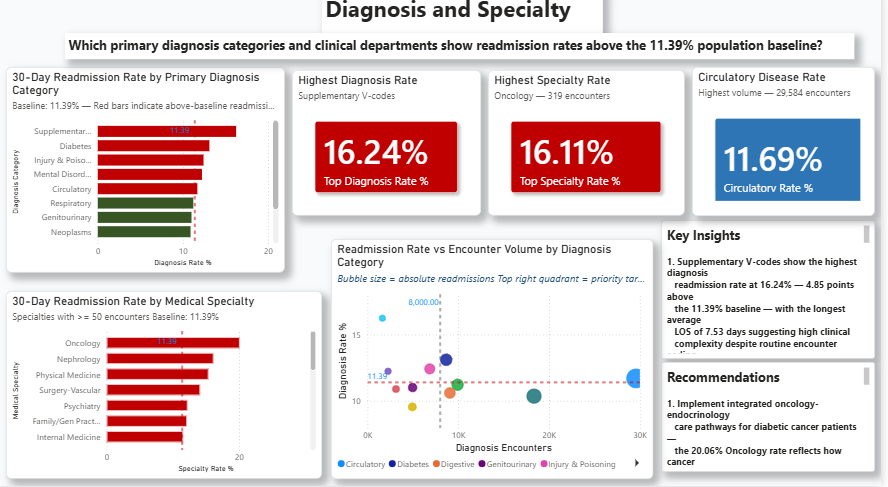

Layout of this report page (visuals, bound fields, positions):
{"tool":"powerbi","page":{"name":"Diagnosis and Specialty","canvas":[1280,720],"ordinal":2},"visuals":[{"type":"textbox","box":[470.6,0,406.8,63.8],"z":0},{"type":"barChart","title":"30-Day Readmission Rate by Primary Diagnosis Category","fields":{"Category":["public vw_kpi_readmission_by_diagnosis.diagnosis_category"],"Y":["public vw_kpi_readmission_by_diagnosis.Diagnosis Rate %"]},"box":[12.8,113.4,403.9,297.6],"z":1000},{"type":"barChart","title":"30-Day Readmission Rate by Medical Specialty","fields":{"Category":["public vw_kpi_readmission_by_specialty.medical_specialty"],"Y":["public vw_kpi_readmission_by_specialty.Specialty Rate %"]},"box":[13,437.7,458,272.5],"z":2000},{"type":"textbox","box":[962.3,334.8,310.1,201.4],"z":3000},{"type":"textbox","box":[962.3,540.6,310.1,159.4],"z":4000},{"type":"textbox","box":[99.2,63.8,1143.8,38.3],"z":5000},{"type":"cardVisual","title":"Highest Diagnosis Rate","fields":{"Data":["public vw_kpi_readmission_by_diagnosis.Top Diagnosis Rate %"]},"box":[428,117.6,273.5,211.2],"z":6000},{"type":"cardVisual","title":"Highest Specialty Rate","fields":{"Data":["public vw_kpi_readmission_by_diagnosis.Nephrology Rate %"]},"box":[711.5,117.6,284.9,211.2],"z":7000},{"type":"cardVisual","title":"Circulatory Disease Rate","fields":{"Data":["public vw_kpi_readmission_by_diagnosis.Circulatory Rate %"]},"box":[1007.2,113,265.2,215.9],"z":8000},{"type":"scatterChart","title":"Readmission Rate vs Encounter Volume by Diagnosis Category","fields":{"X":["public vw_kpi_readmission_by_diagnosis.Diagnosis Encounters"],"Y":["public vw_kpi_readmission_by_diagnosis.Diagnosis Rate %"],"Size":["Avg(public vw_kpi_readmission_by_diagnosis.readmitted_30day)"],"Series":["public vw_kpi_readmission_by_diagnosis.diagnosis_category"]},"box":[484.1,362.3,466.7,347.8],"z":9000}]}

Visuals, with their boxes in screenshot pixels (x1, y1, x2, y2), scaled from the page's 1280x720 canvas onto the 888x487 screenshot:
textbox: region(326, 0, 609, 43)
"30-Day Readmission Rate by Primary Diagnosis Category" barChart: region(9, 77, 289, 278)
"30-Day Readmission Rate by Medical Specialty" barChart: region(9, 296, 327, 480)
textbox: region(668, 226, 883, 363)
textbox: region(668, 366, 883, 473)
textbox: region(69, 43, 862, 69)
"Highest Diagnosis Rate" cardVisual: region(297, 80, 487, 222)
"Highest Specialty Rate" cardVisual: region(494, 80, 691, 222)
"Circulatory Disease Rate" cardVisual: region(699, 76, 883, 222)
"Readmission Rate vs Encounter Volume by Diagnosis Category" scatterChart: region(336, 245, 660, 480)
